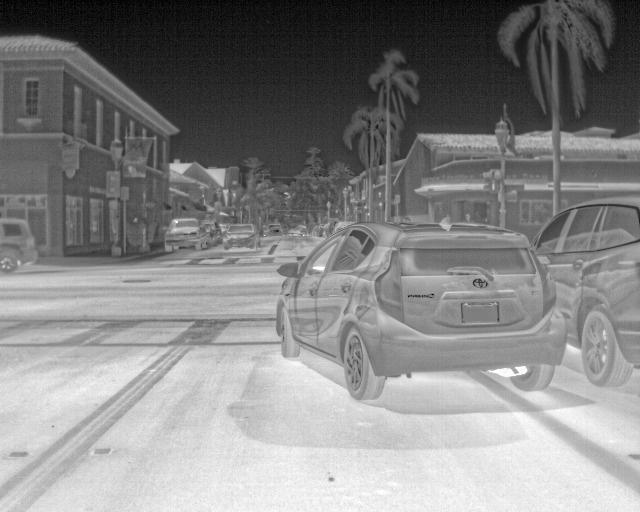bicycle: (276, 213, 567, 402), (530, 195, 639, 388), (0, 218, 40, 274), (163, 218, 205, 253), (221, 226, 265, 252)
